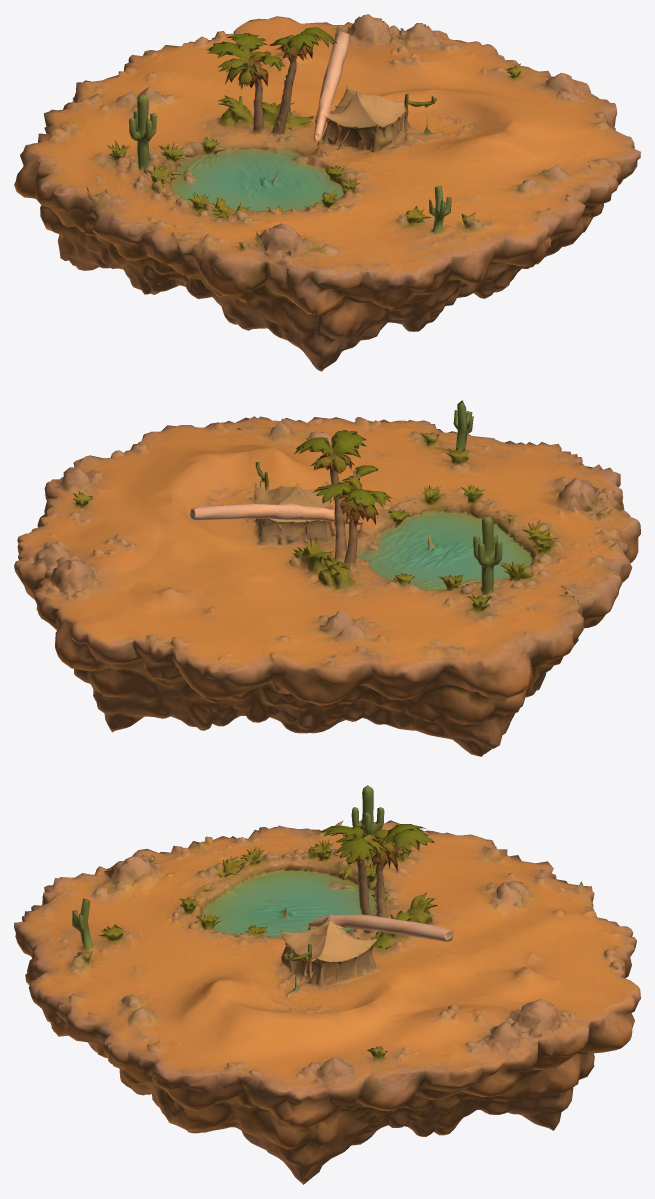
Rendered from island.glb.
The picture shows the model from 3 angles, top to bottom: view 1: azimuth 30°, elevation 25°; view 2: azimuth 150°, elevation 25°; view 3: azimuth 270°, elevation 25°; orthographic projection. The views are drawn at different scales.
Visible parts, largest first — view 1: tripo_node_a7637b64-b433-44d7-8b55-ada74729dcbe; view 2: tripo_node_a7637b64-b433-44d7-8b55-ada74729dcbe; view 3: tripo_node_a7637b64-b433-44d7-8b55-ada74729dcbe.
Boxes of the visible parts, left/top/right/bottom form: tripo_node_a7637b64-b433-44d7-8b55-ada74729dcbe: left=14, top=14, right=640, bottom=371; tripo_node_a7637b64-b433-44d7-8b55-ada74729dcbe: left=14, top=400, right=640, bottom=756; tripo_node_a7637b64-b433-44d7-8b55-ada74729dcbe: left=14, top=785, right=640, bottom=1184.
Size of the model in its own units: 29.93 by 12.78 by 29.73.
1 material, 1 textured.
